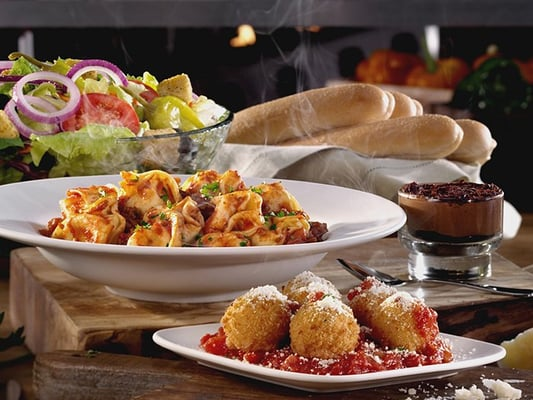sushi: (3, 167, 398, 301)
